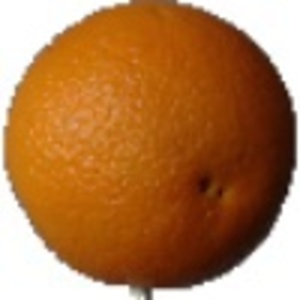laranja: (3, 6, 292, 295)
